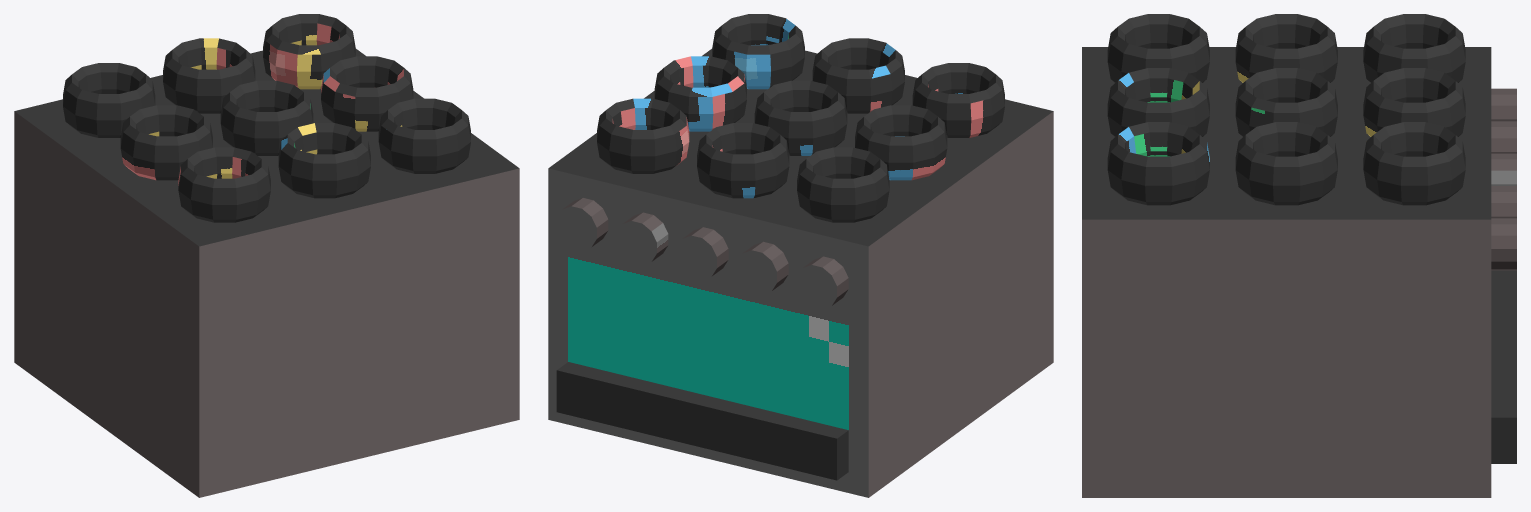
The model's file is oven.gltf.
3 views of the same model, side by side, from view 1: azimuth 30°, elevation 25°; view 2: azimuth 150°, elevation 25°; view 3: azimuth 270°, elevation 25° (orthographic). The views are drawn at different scales.
Visible parts, largest first — view 1: cube, torus (×9); view 2: cube (×2), torus (×9), cylinder (×5); view 3: cube (×2), torus (×9), cylinder (×5).
Boxes of the visible parts, left/top/right/bottom form: cube: left=14, top=48, right=519, bottom=497; torus (×9): left=63, top=14, right=470, bottom=222; cube (×2): left=548, top=48, right=1053, bottom=497; torus (×9): left=597, top=14, right=1004, bottom=222; cylinder (×5): left=556, top=198, right=848, bottom=309; cube (×2): left=1082, top=47, right=1516, bottom=497; torus (×9): left=1107, top=14, right=1465, bottom=205; cylinder (×5): left=1491, top=88, right=1516, bottom=270.
Bounding box in the file's own units: 1 × 0.8794 × 1.06.
Materials: 1 (1 with a texture image).
